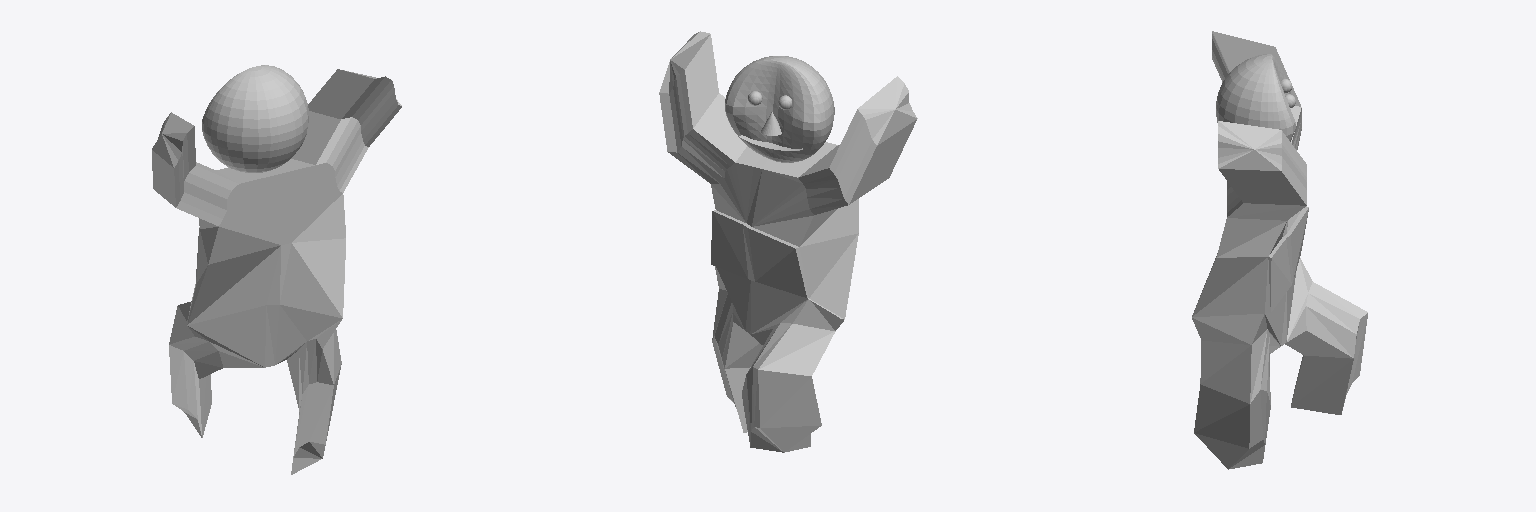
Rendered from man_000020.obj.
The picture shows the model from 3 angles: view 1: azimuth 30°, elevation 25°; view 2: azimuth 150°, elevation 25°; view 3: azimuth 270°, elevation 25°; orthographic projection.
Parts seen in each view (by area): view 1: Cube; view 2: Cube; view 3: Cube.
Part boxes in pixels (left/top/right/bottom): Cube: left=152, top=65, right=401, bottom=474; Cube: left=659, top=31, right=917, bottom=452; Cube: left=1192, top=31, right=1367, bottom=469.
Bounding box in the file's own units: 79.08 × 126 × 52.31.